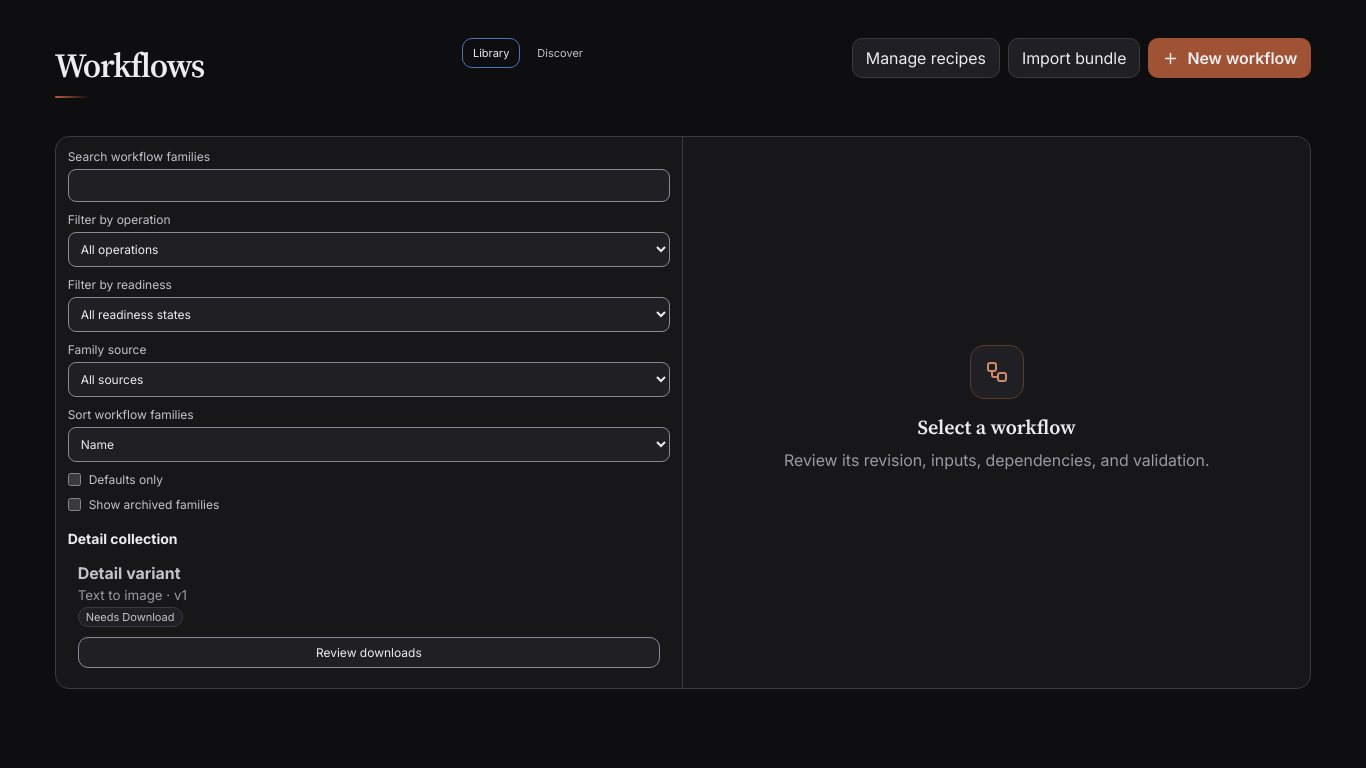
reviews an exact download from the card before sending its opaque ID
Expected: the heading "Detail collection" is shown, [68,530,178,547]
Click the button with aria-label "Review downloads for Detail variant": {"x": 369, "y": 652} [78,637,660,668]
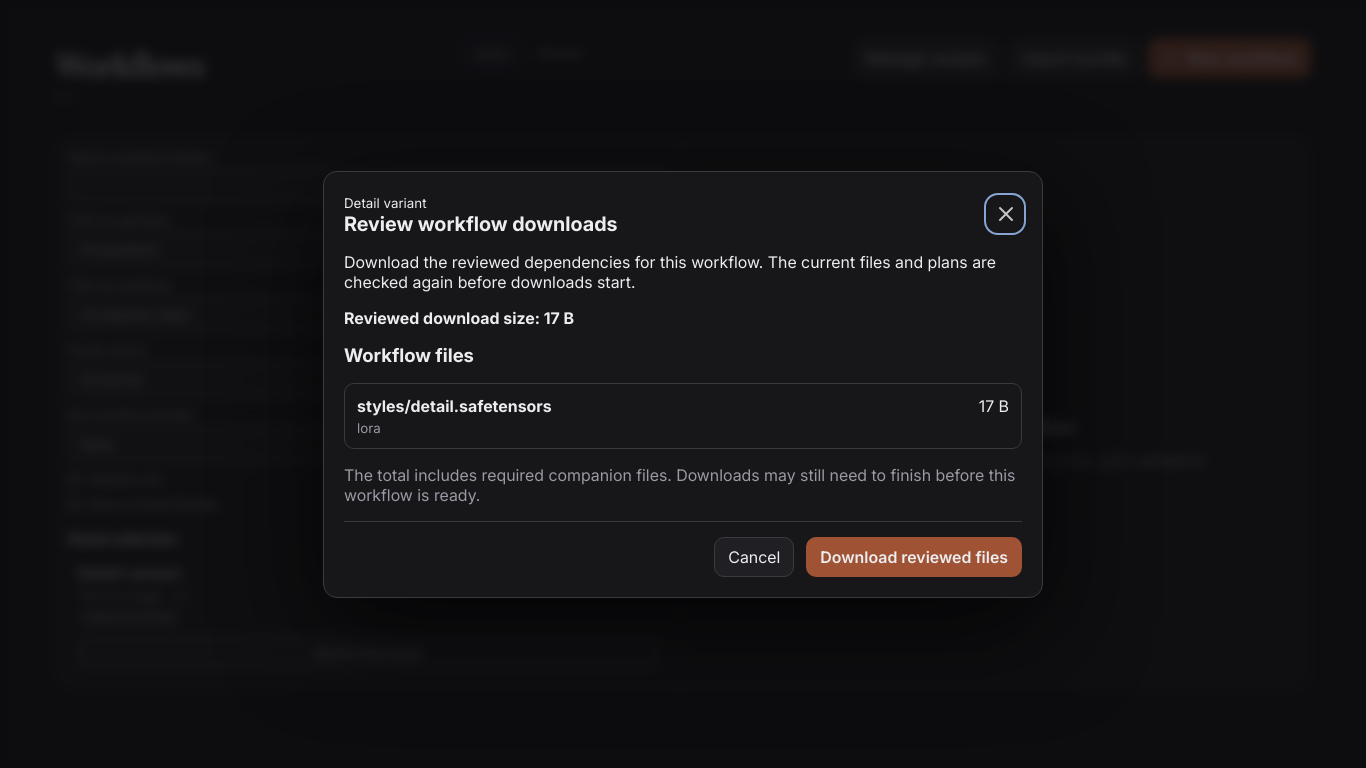
Now the text "styles/detail.safetensors" is shown, box [357,396,552,416]
Now the text "Reviewed download size: 17 B" is shown, box [344,308,574,328]
Click the button "Download reviewed files": {"x": 914, "y": 556} [806,536,1022,576]
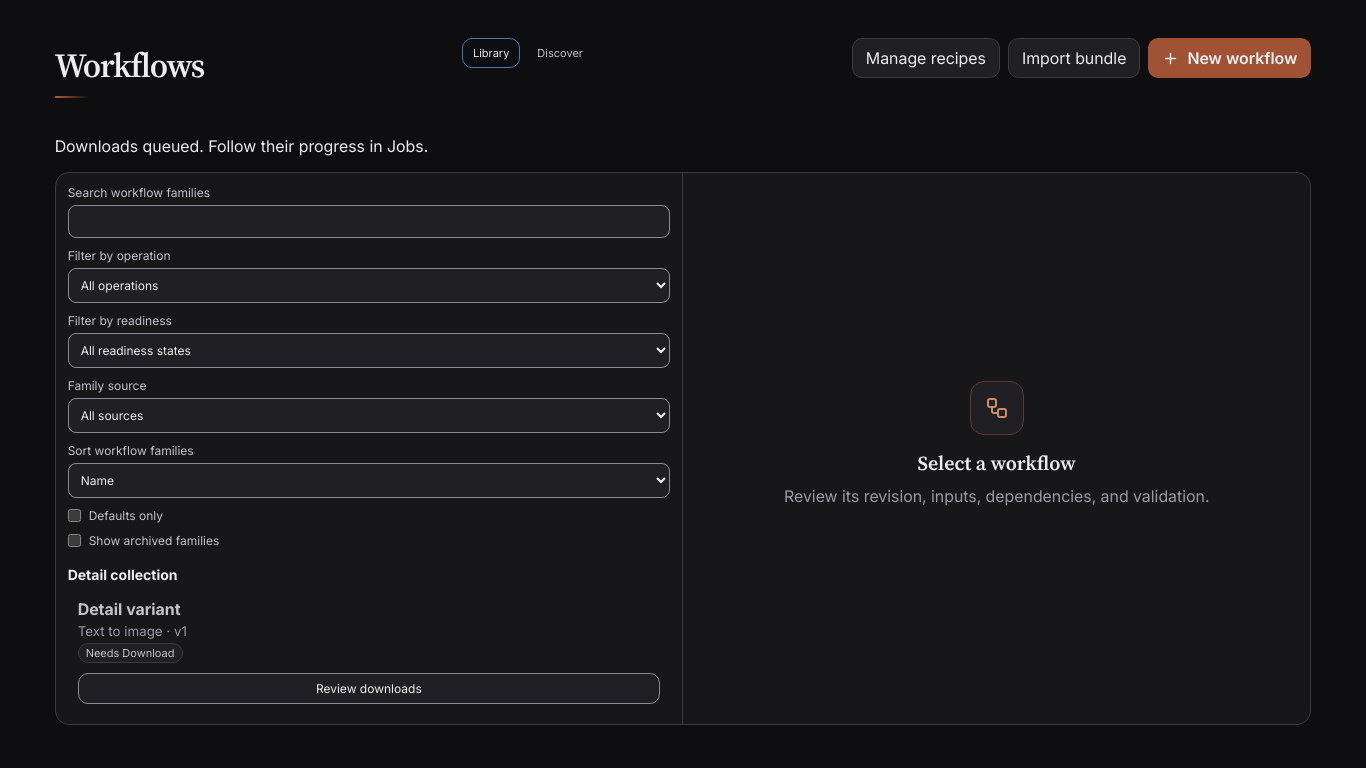
Now the dialog is gone
Now the message shows "Downloads queued", box [55,136,428,156]
